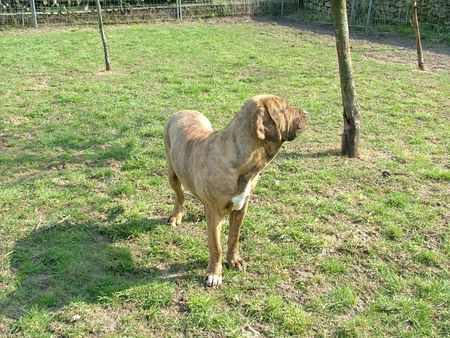fila_brasileiro: (162, 93, 308, 286)
